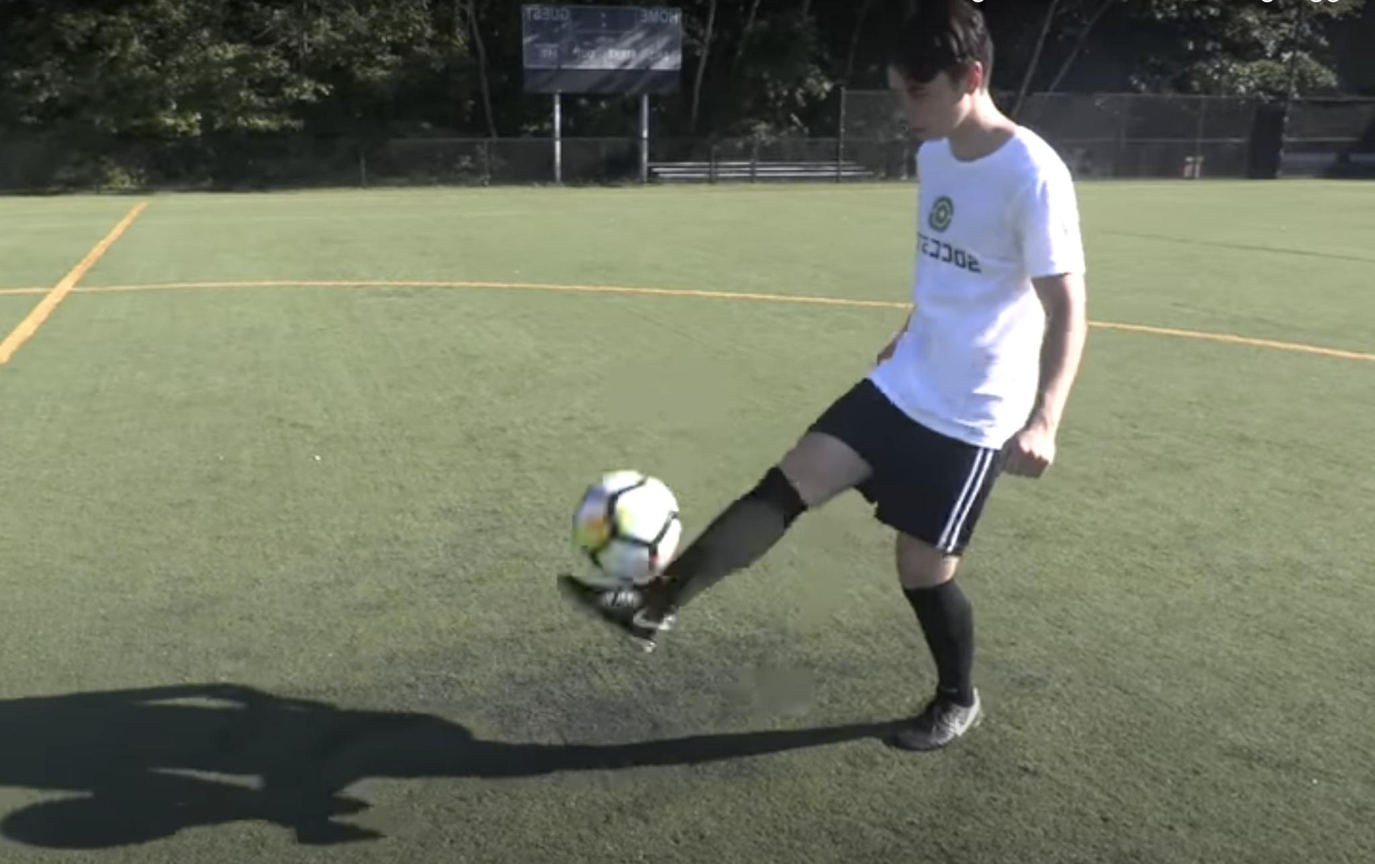ball: (576, 470, 682, 578)
foot: (557, 570, 673, 652), (897, 682, 989, 750)
person: (554, 2, 1087, 748)
